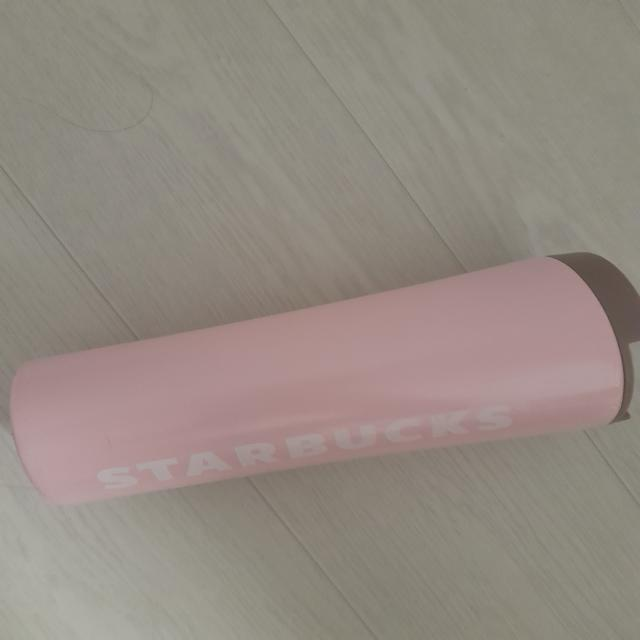waterbottle: (16, 251, 640, 503)
